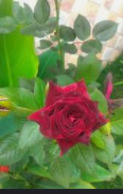RedRose: (27, 76, 111, 153)
